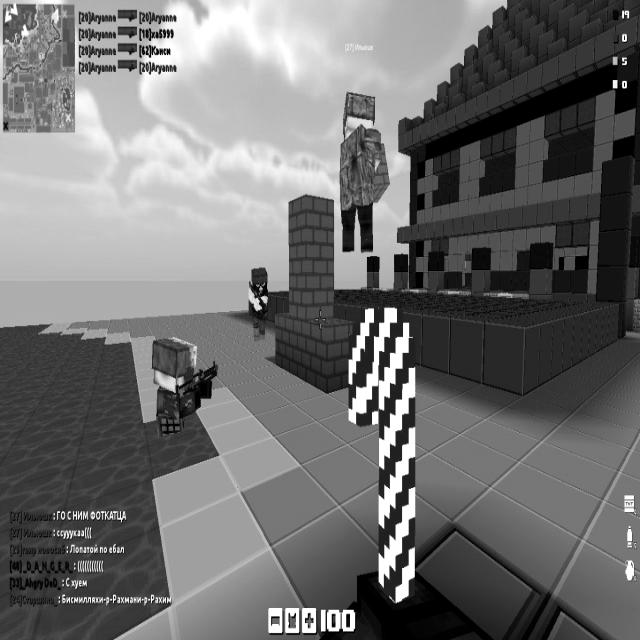Head: (154, 339, 198, 392), (342, 93, 378, 139), (249, 268, 267, 296)
Player: (340, 93, 390, 255), (152, 335, 220, 436), (244, 262, 270, 340)
